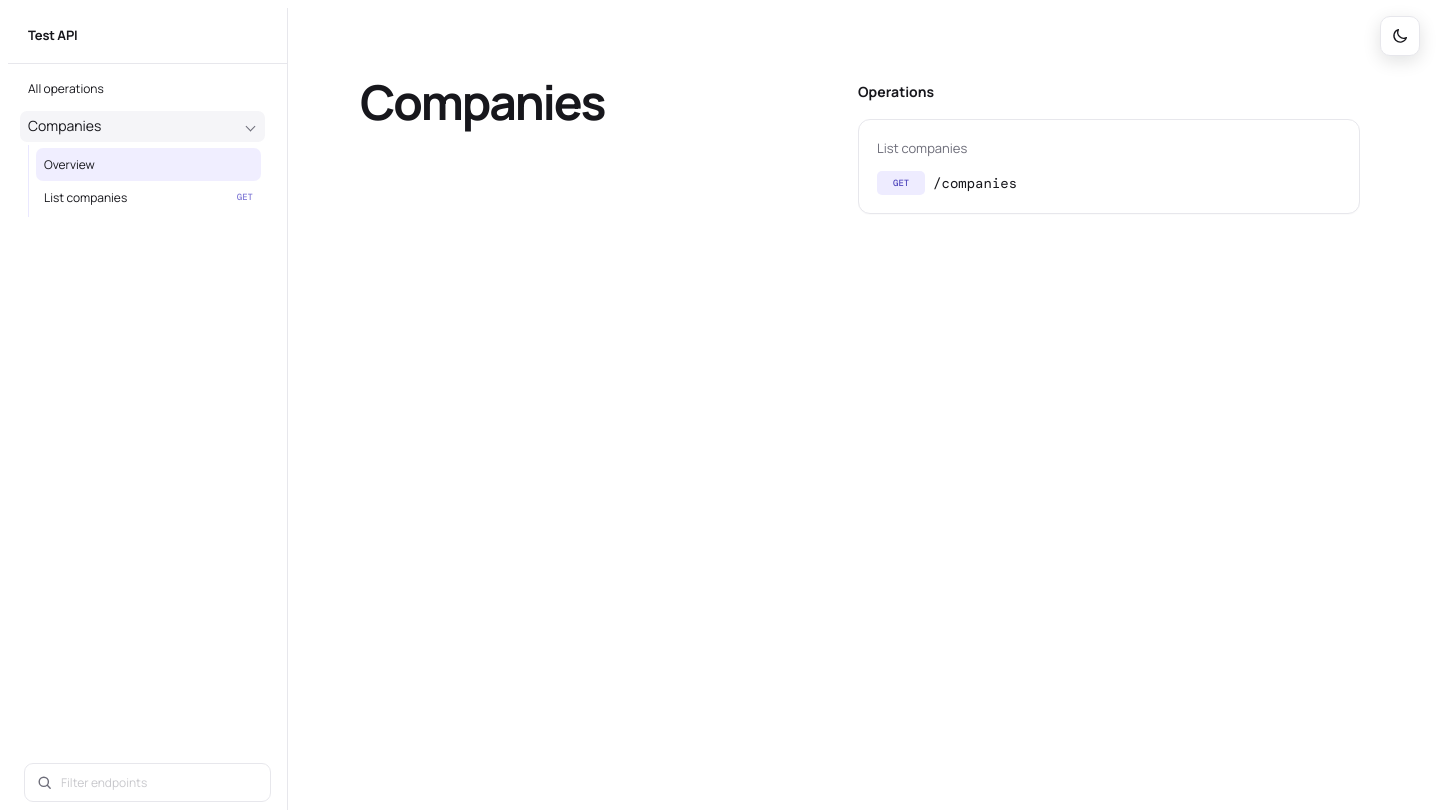
Scenario: Speccy navigation › links to all operations above the first tag
Click the link "All operations".
click(66, 88)  # box [28,80,104,97]
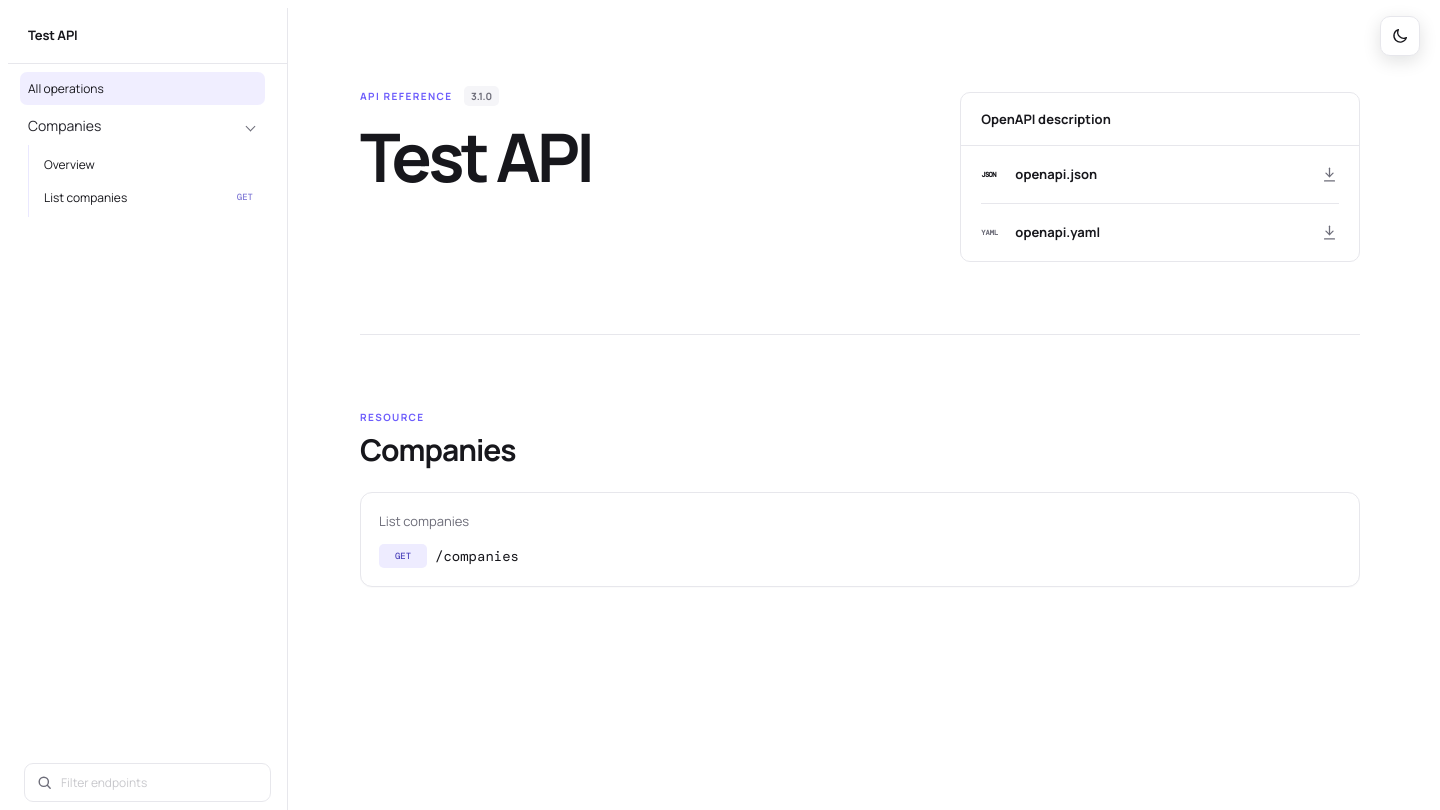
Expected: the link "Overview" is shown, [44,156,95,173]
Now the heading "Test API" is shown, box [360,111,591,202]
